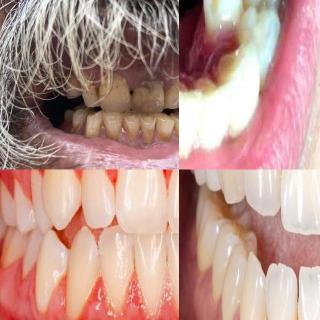Gum Swelling: (41, 285, 178, 320)
calculus: (287, 301, 304, 320)
cavities: (138, 73, 164, 111)
maligned: (188, 0, 250, 36)
plaque: (101, 74, 133, 98), (170, 77, 179, 99), (68, 125, 78, 137)
stains: (139, 122, 158, 146), (103, 121, 123, 143), (154, 122, 173, 145), (124, 121, 142, 143), (83, 120, 101, 142), (103, 110, 125, 125), (89, 83, 103, 105), (143, 110, 157, 130), (124, 111, 140, 128), (88, 105, 102, 123), (158, 110, 172, 126), (77, 106, 93, 120), (175, 124, 179, 146), (174, 110, 179, 124)
